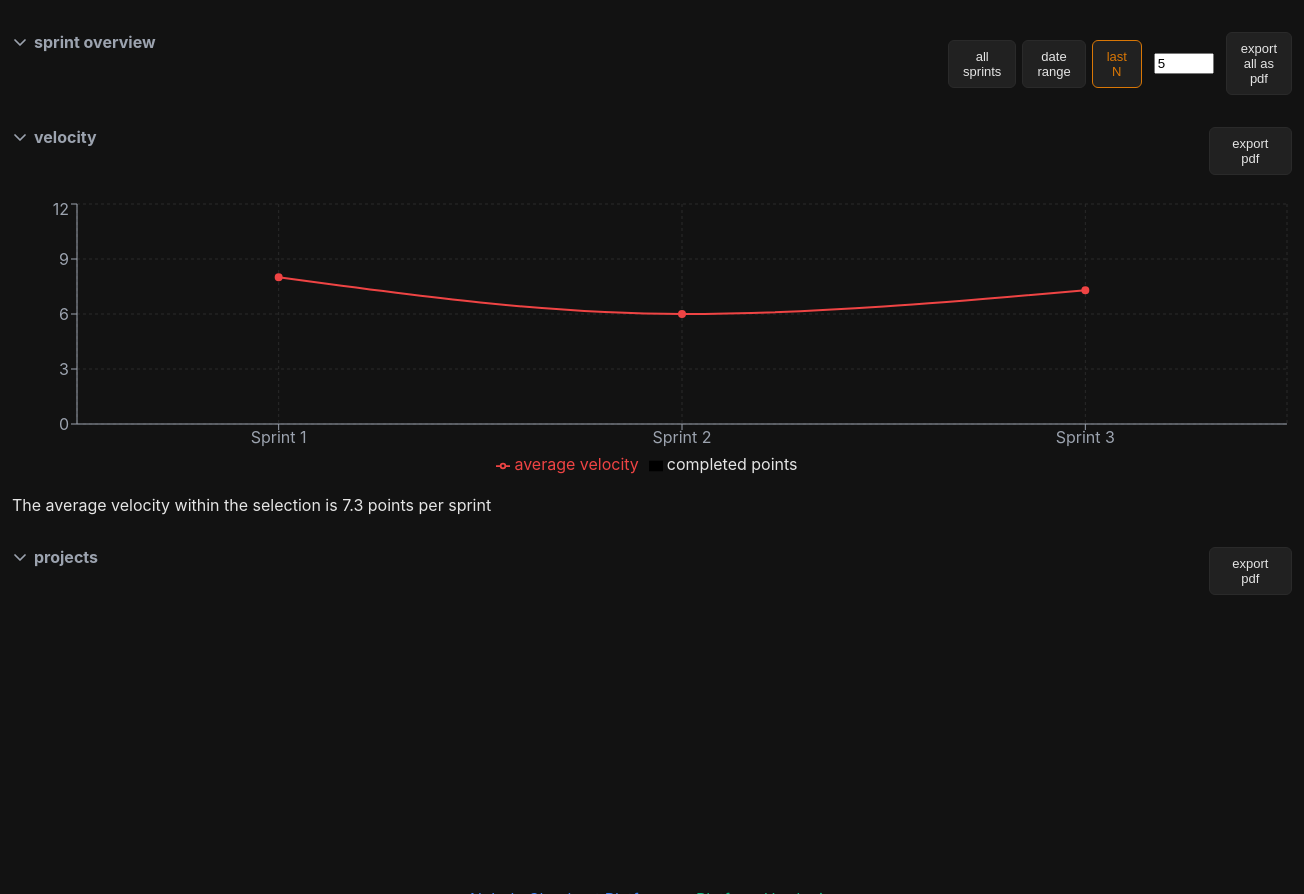
SprintOverview › updates the project pie chart when the sprint selection changes
Check: the text "completed points" is shown, box [667, 454, 798, 474]
Check: the heading "Projects" is shown, box [34, 547, 98, 567]
Step 1. Click the button "date range" → (1054, 64), box [1022, 40, 1086, 88]
(page scrolled)
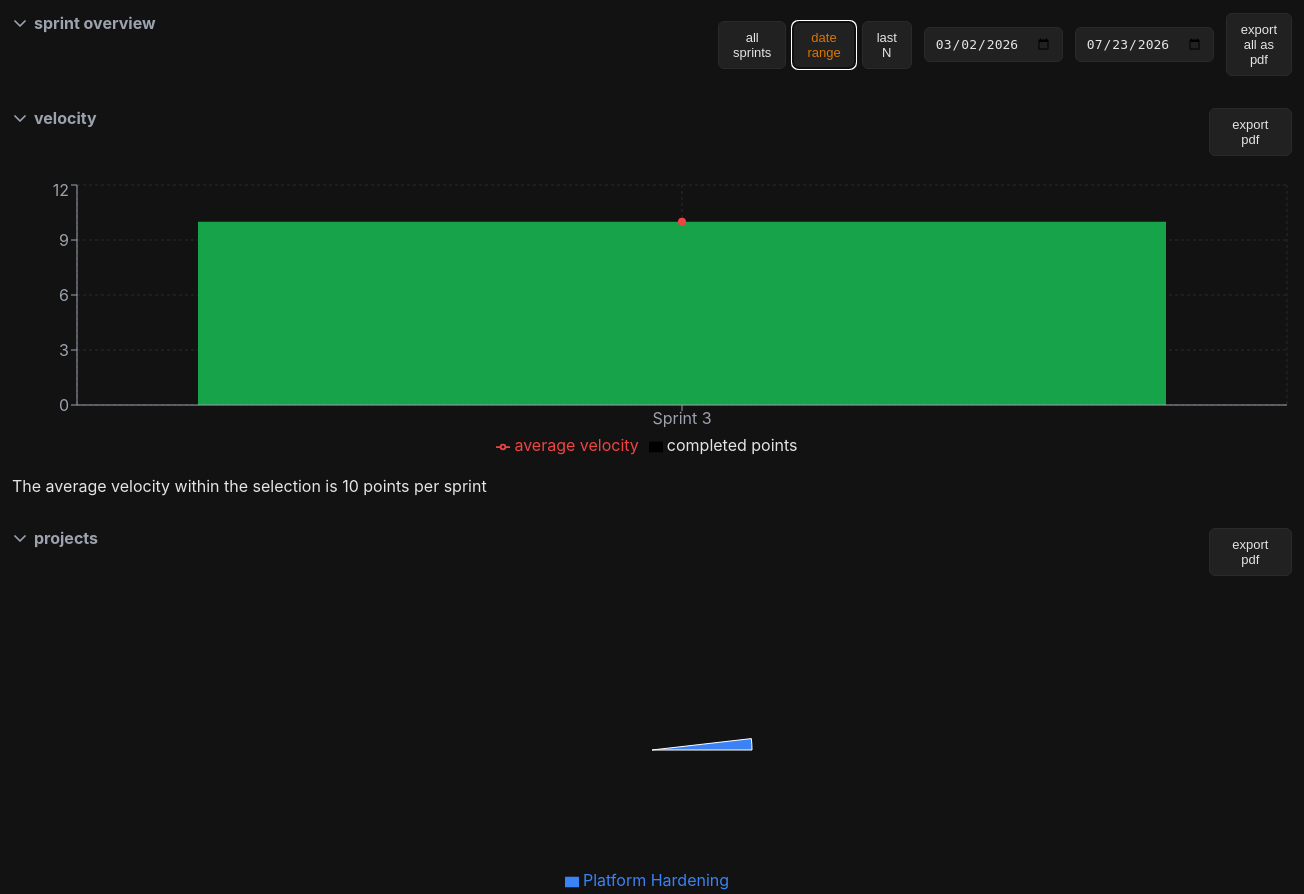
Check: the text "Platform Hardening" is shown, box [583, 870, 729, 890]
